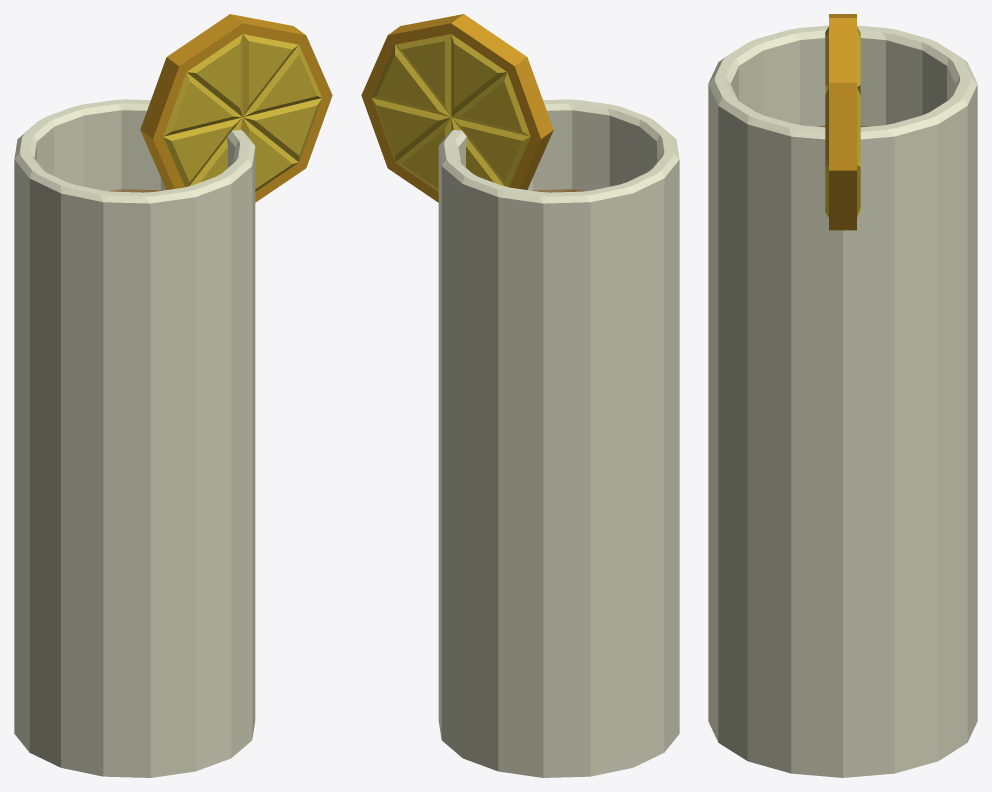
Rendered from champurrado.fbx.
3 views of the same model, side by side, from view 1: azimuth 30°, elevation 25°; view 2: azimuth 150°, elevation 25°; view 3: azimuth 270°, elevation 25° (orthographic). The views are drawn at different scales.
Visible parts, largest first — view 1: Cylinder.001, Cylinder; view 2: Cylinder.001, Cylinder; view 3: Cylinder.001, Cylinder.
Part boxes in pixels (left/top/right/bottom): Cylinder.001: left=14, top=99, right=255, bottom=777; Cylinder: left=140, top=14, right=332, bottom=202; Cylinder.001: left=438, top=99, right=679, bottom=777; Cylinder: left=361, top=14, right=553, bottom=202; Cylinder.001: left=708, top=25, right=977, bottom=777; Cylinder: left=825, top=14, right=860, bottom=230.
Size of the model in its own units: 282 by 620 by 200.
